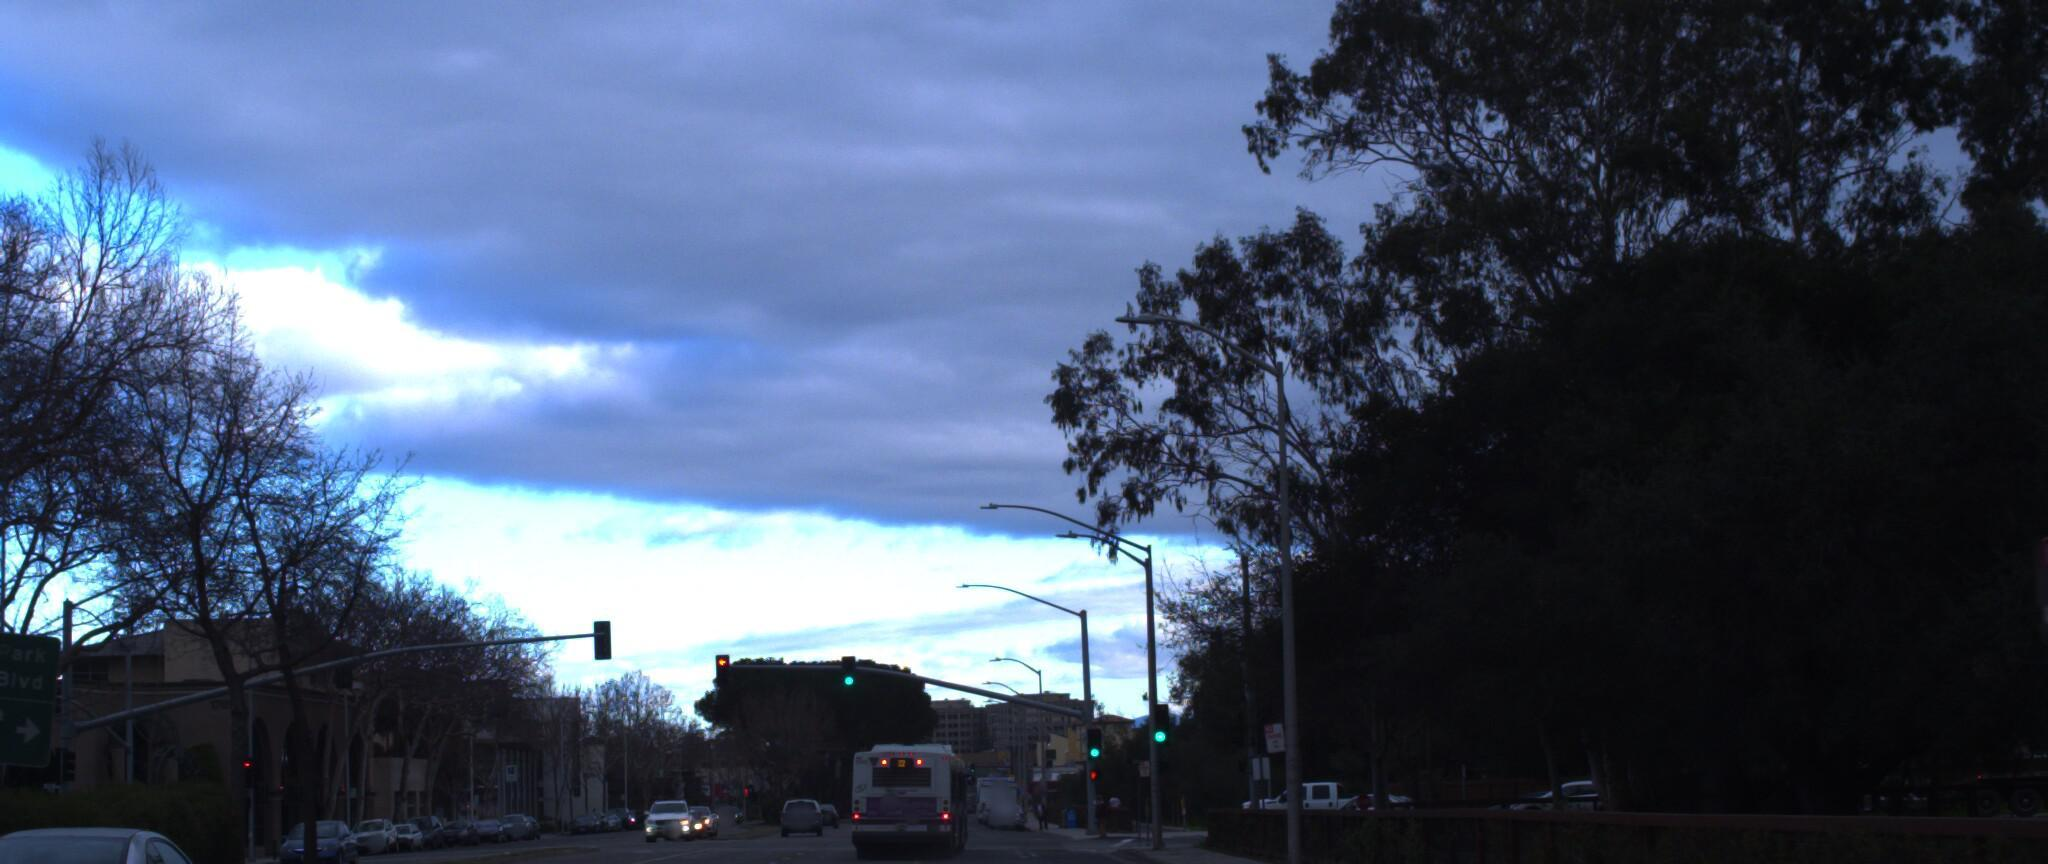car: (0, 807, 260, 864), (0, 809, 125, 864)
